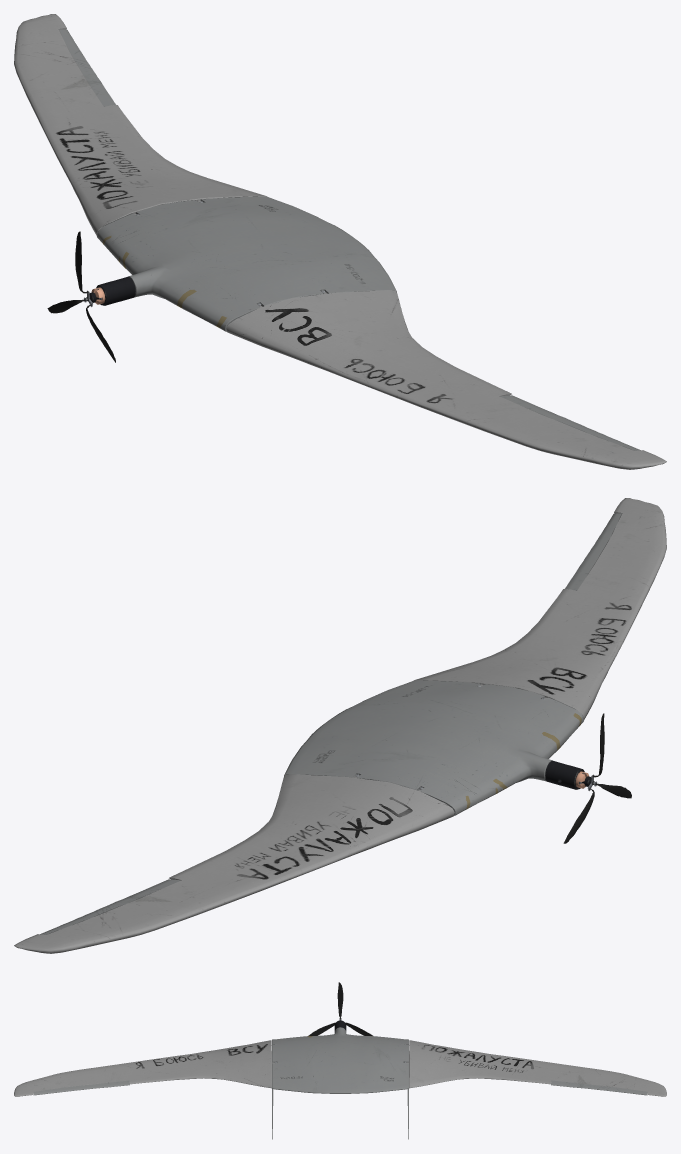
The model's file is super_cam__-_rusian_reconnaissance_drone.glb.
The picture shows the model from 3 angles, top to bottom: view 1: azimuth 30°, elevation 25°; view 2: azimuth 150°, elevation 25°; view 3: azimuth 270°, elevation 25°; orthographic projection. The views are drawn at different scales.
Visible parts, largest first — view 1: Cube.001; view 2: Cube.001; view 3: Cube.001.
Boxes of the visible parts, x1,y1,x2,y2 form: Cube.001: [14, 14, 666, 469]; Cube.001: [14, 498, 666, 953]; Cube.001: [14, 982, 666, 1139].
Bounding box in the file's own units: 0.8425 × 0.4544 × 3.15.
1 material, 1 textured.
